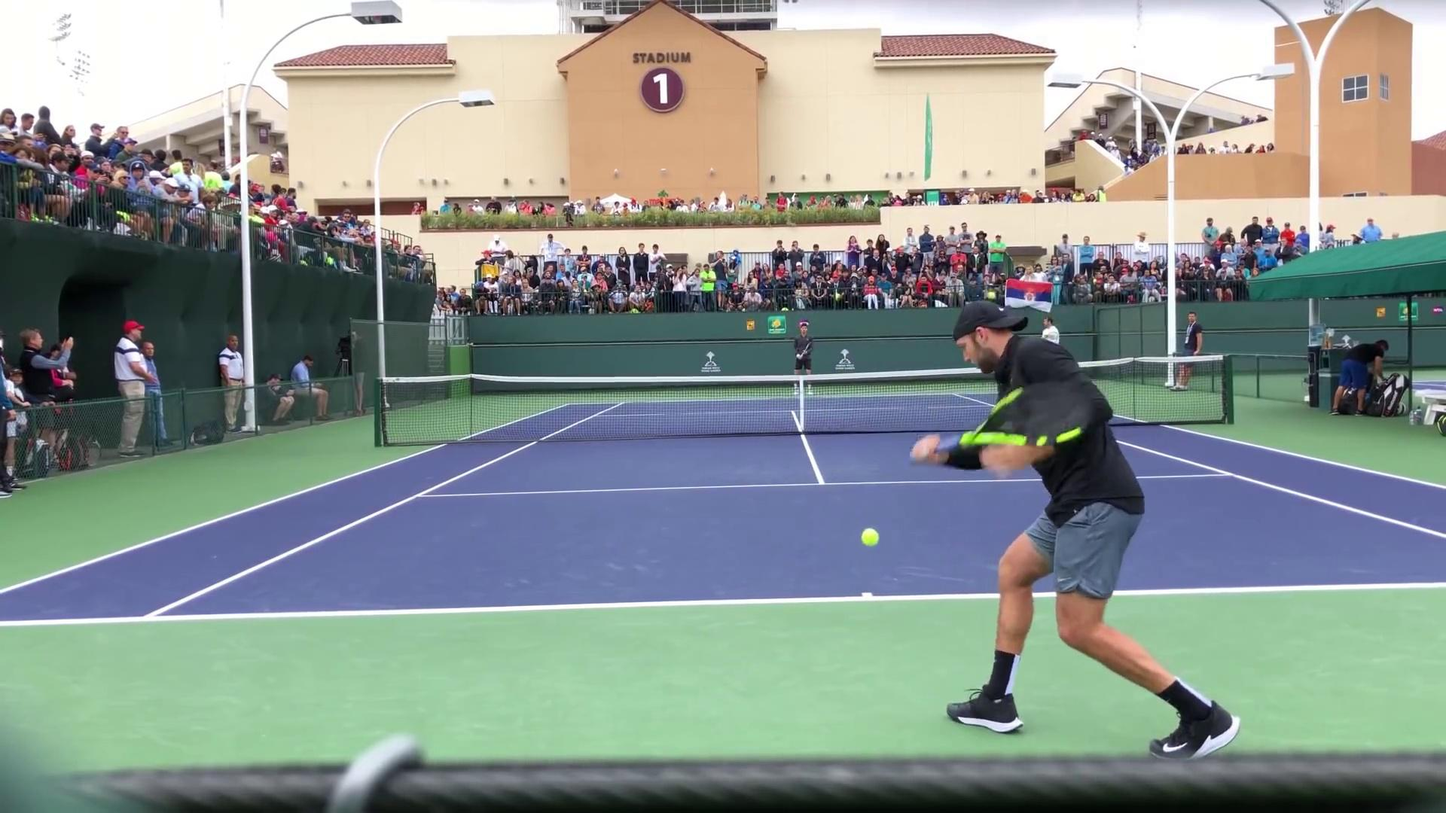ball: (859, 526, 880, 547)
